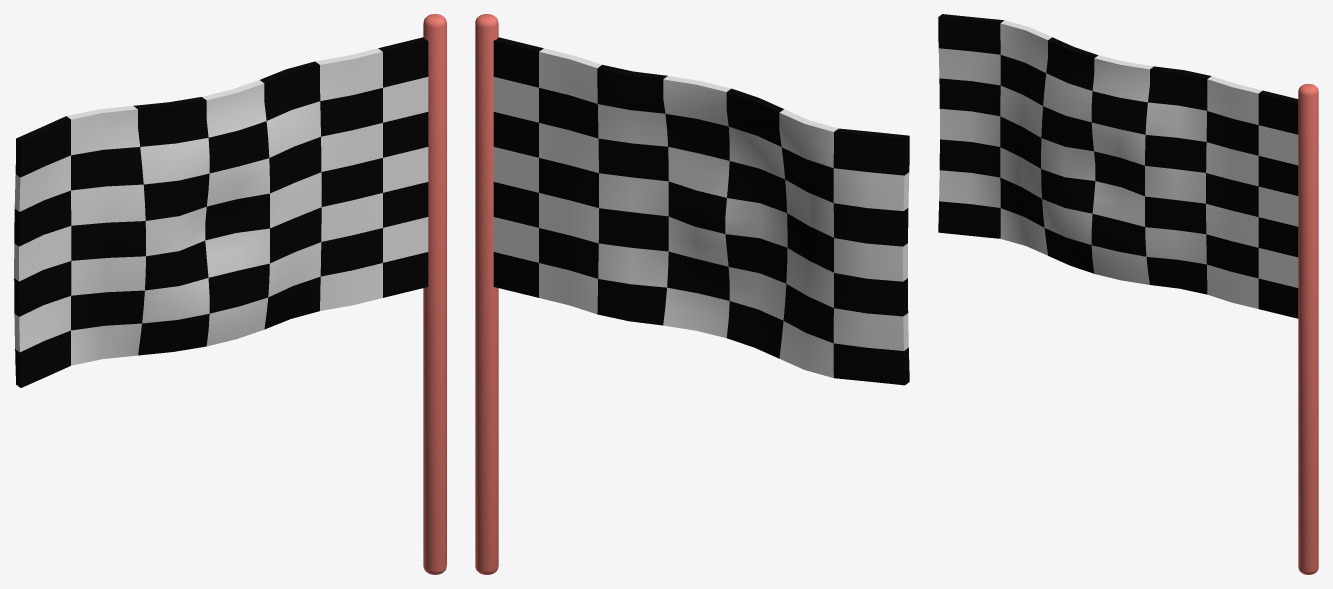
File: Flag_.glb
3 views of the same model, side by side, from view 1: azimuth 30°, elevation 25°; view 2: azimuth 150°, elevation 25°; view 3: azimuth 330°, elevation 25° (orthographic). The views are drawn at different scales.
Parts seen in each view (by area): view 1: Flag_-Black_, Flag_-White_, Stick_; view 2: Flag_-Black_, Flag_-White_, Stick_; view 3: Flag_-Black_, Flag_-White_, Stick_.
Part boxes in pixels (x1=…): Flag_-Black_: x1=14, y1=37, x2=428, y2=387; Flag_-White_: x1=14, y1=48, x2=428, y2=365; Stick_: x1=423, y1=14, x2=446, y2=574; Flag_-Black_: x1=493, y1=37, x2=909, y2=385; Flag_-White_: x1=493, y1=48, x2=909, y2=377; Stick_: x1=475, y1=14, x2=498, y2=574; Flag_-Black_: x1=938, y1=14, x2=1298, y2=318; Flag_-White_: x1=938, y1=20, x2=1298, y2=308; Stick_: x1=1298, y1=84, x2=1318, y2=574.
Bounding box in the file's own units: 107 × 132 × 9.68.
